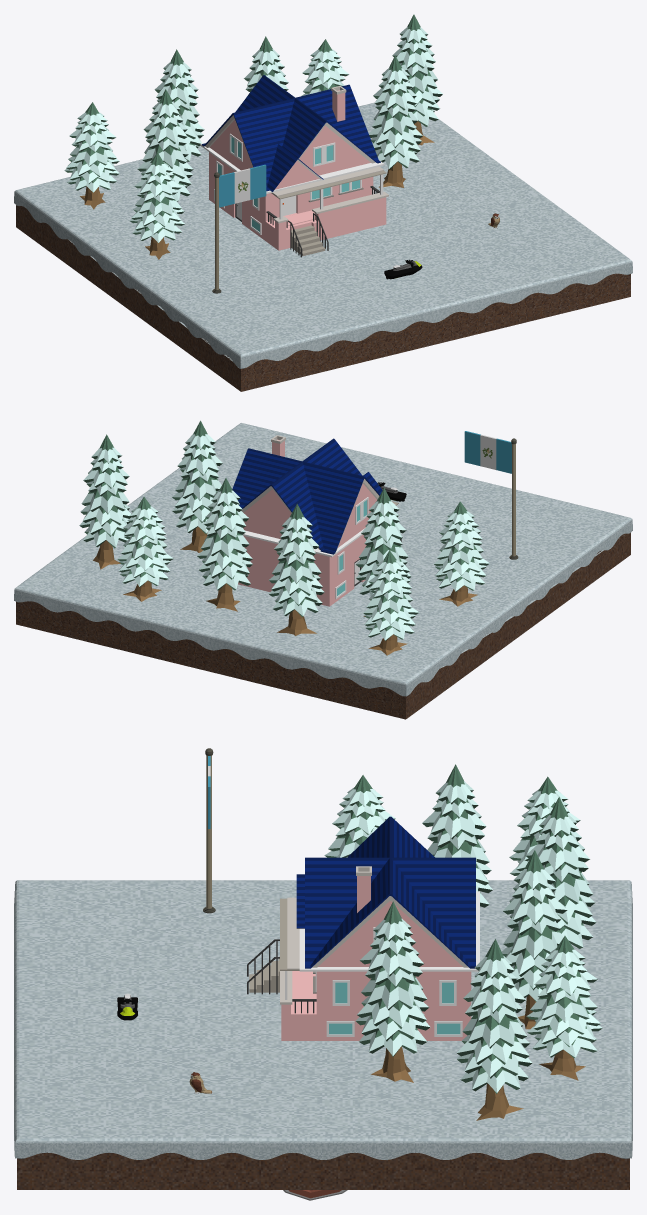
3 views of the same model, one above another, from view 1: azimuth 30°, elevation 25°; view 2: azimuth 150°, elevation 25°; view 3: azimuth 270°, elevation 25° (orthographic). The views are drawn at different scales.
Visible parts, largest first — view 1: Cube.003, Cube.313, OBJRANDOM_GUATEMALAN_FLAG; view 2: Cube.003, Cube.313, OBJRANDOM_GUATEMALAN_FLAG; view 3: Cube.003, Cube.313, OBJRANDOM_GUATEMALAN_FLAG.
Boxes of the visible parts, x1,y1,x2,y2 form: Cube.003: (14, 14, 632, 391); Cube.313: (200, 75, 388, 257); OBJRANDOM_GUATEMALAN_FLAG: (212, 164, 266, 293); Cube.003: (14, 420, 632, 719); Cube.313: (232, 435, 401, 606); OBJRANDOM_GUATEMALAN_FLAG: (464, 431, 518, 559); Cube.003: (14, 764, 632, 1189); Cube.313: (247, 816, 479, 1040); OBJRANDOM_GUATEMALAN_FLAG: (203, 748, 215, 913).
Size of the model in its own units: 4040 by 2408 by 4040.
Materials: 37 (3 with a texture image).
